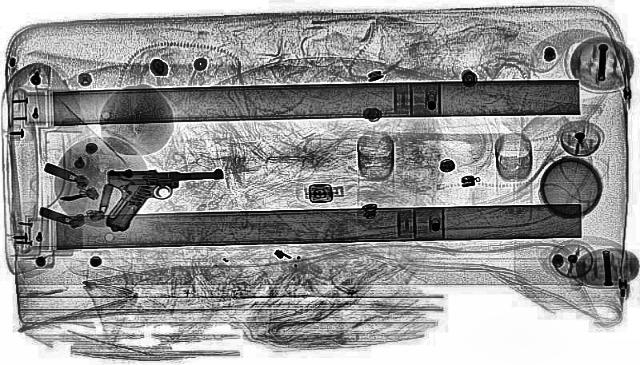Gun: (90, 162, 242, 232)
